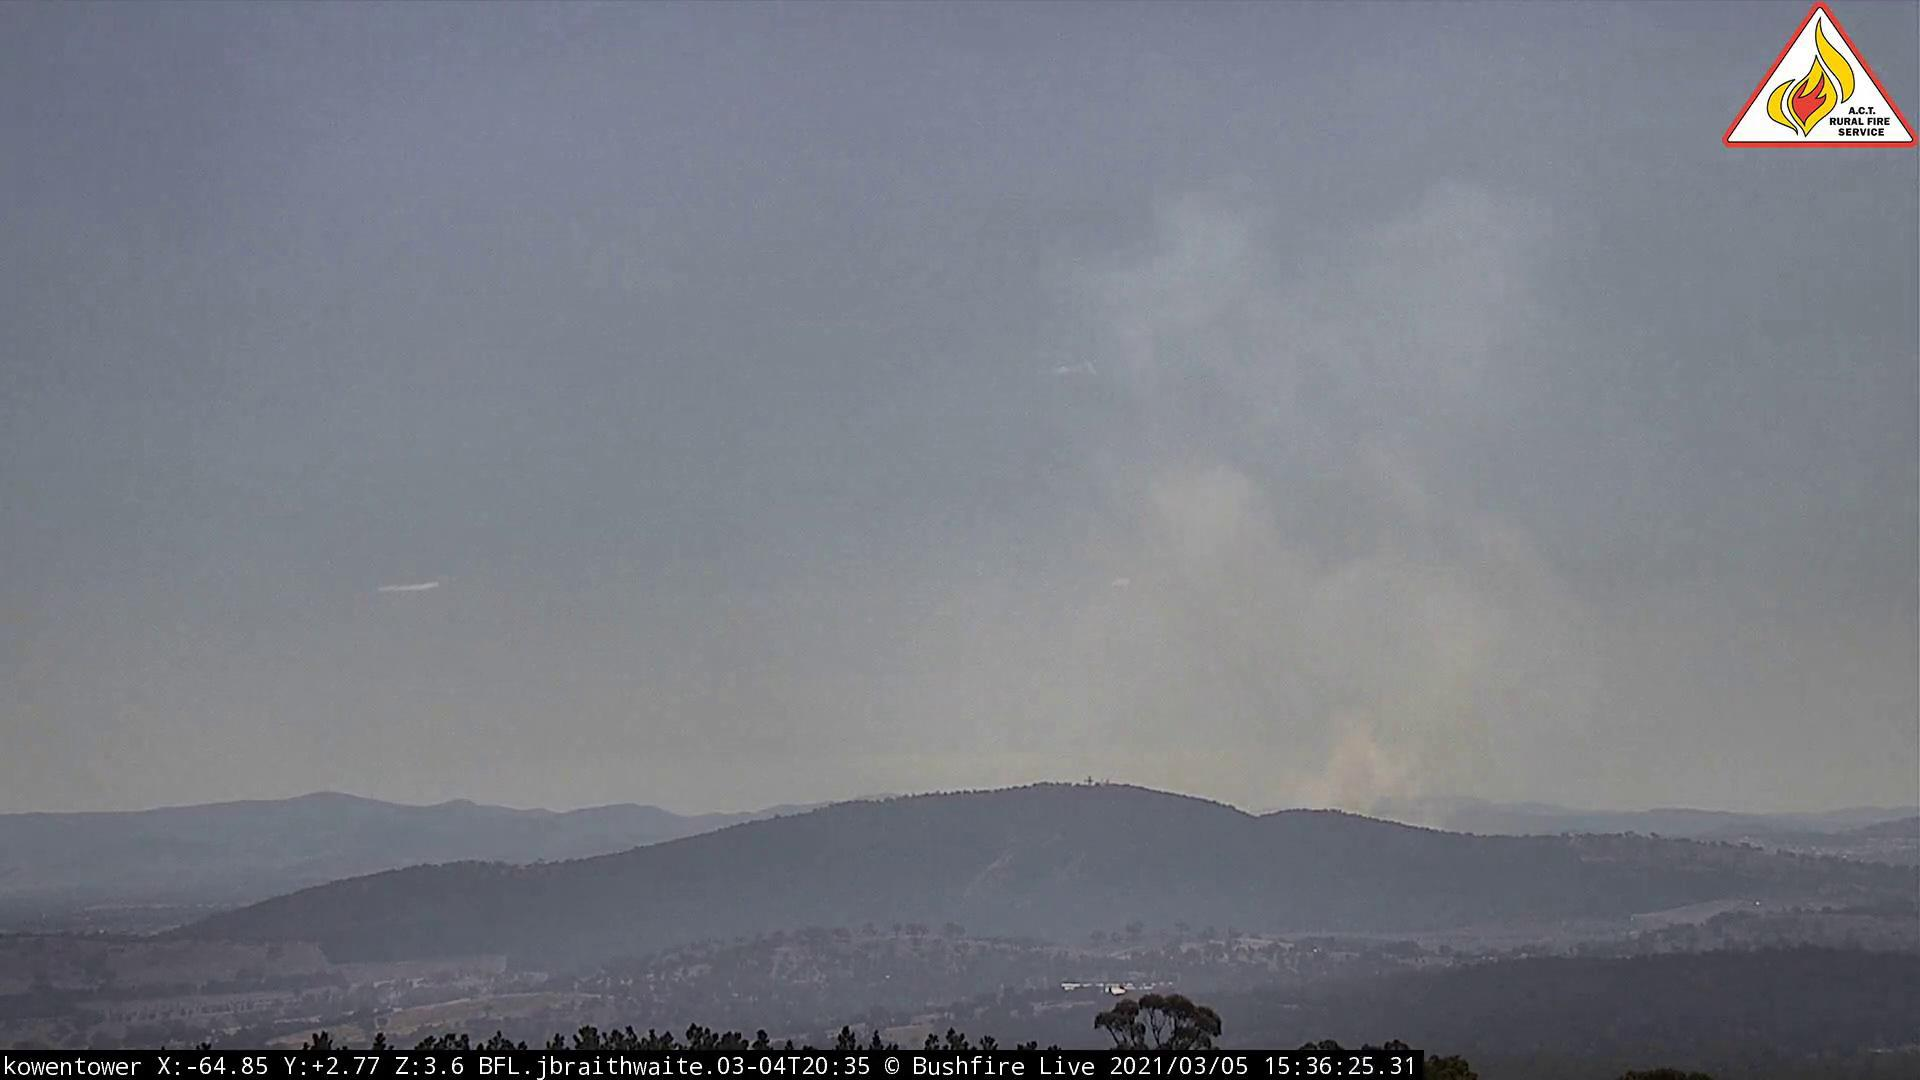Smoke: (872, 167, 1575, 858)
